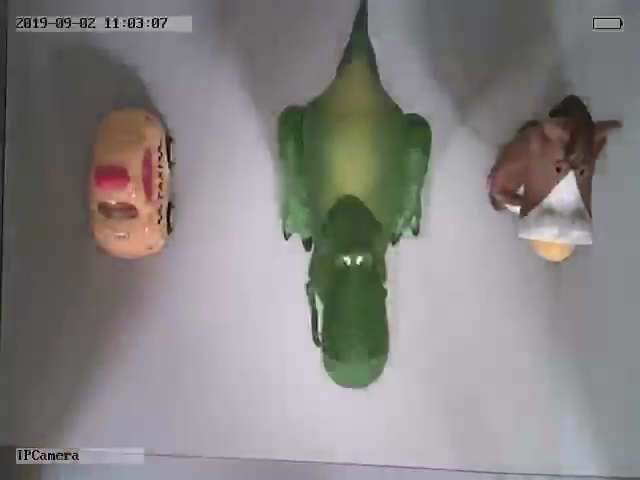car: (86, 105, 178, 260)
horse: (485, 95, 624, 263)
rex: (275, 1, 435, 391)
